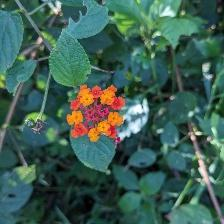common lanthana: (71, 80, 127, 142)
